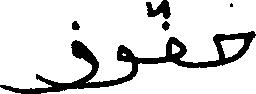X: (214, 0, 255, 71), (0, 69, 66, 93), (166, 0, 185, 71), (118, 40, 137, 88)
